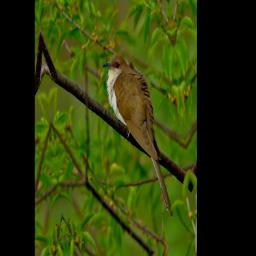Cuckoo: (101, 39, 175, 239)
